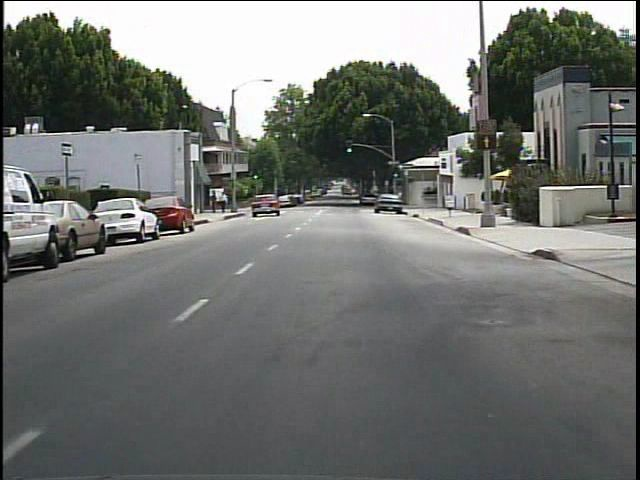person: (208, 190, 221, 215), (219, 191, 230, 214)
